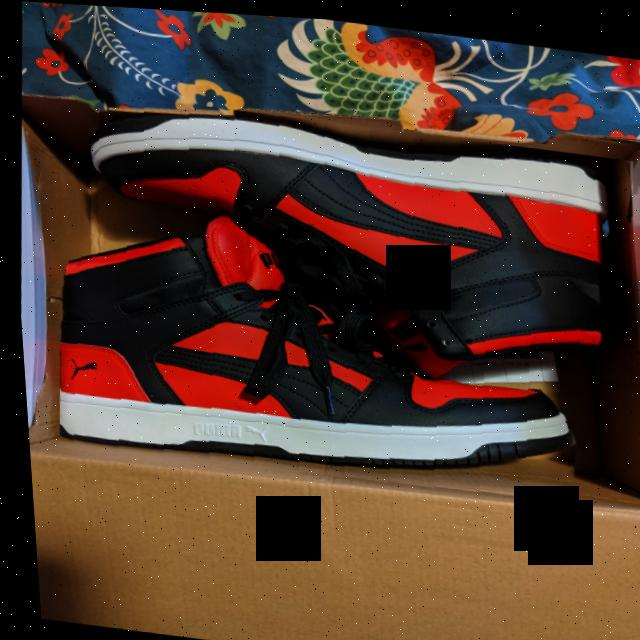shoe: (39, 190, 594, 508), (57, 87, 640, 389)
